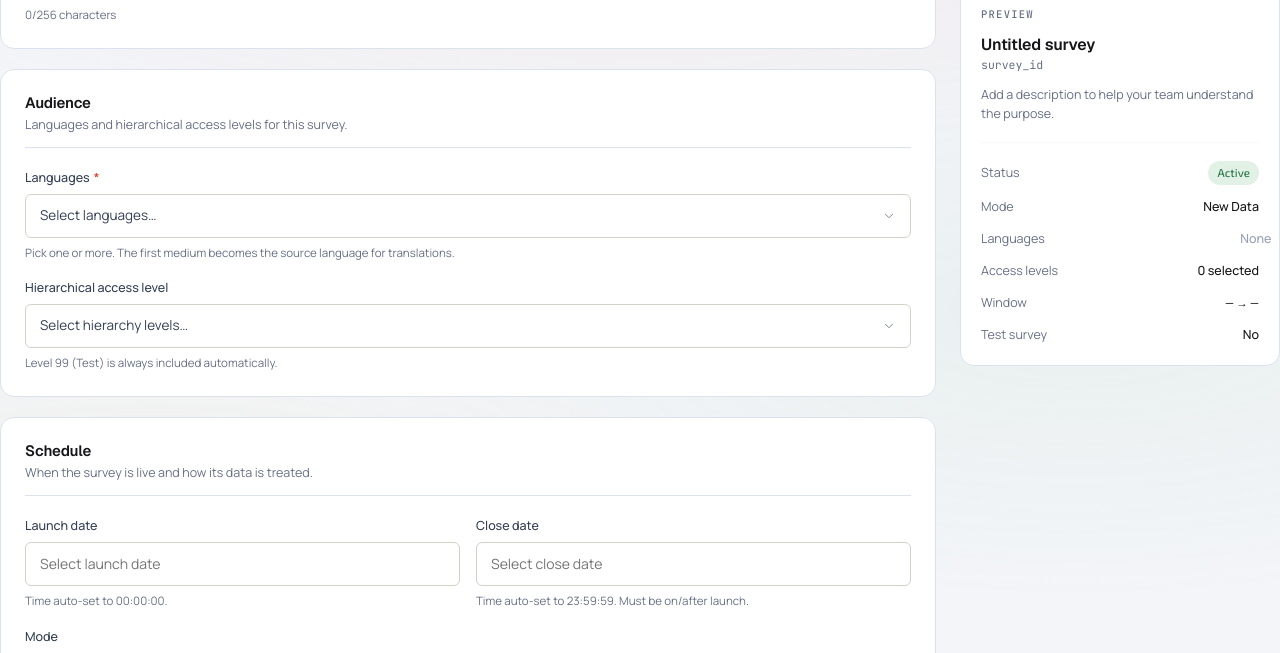
Test case: SurveyForm — designation integration (no hardcoded values) › hierarchy dropdown is populated from the real designationAPI mock
This screenshot has width=1280, height=653.
(page scrolled)
Click the button with test id "surveyform-hierarchy-trigger": (114, 325) left=25, top=304, right=911, bottom=348
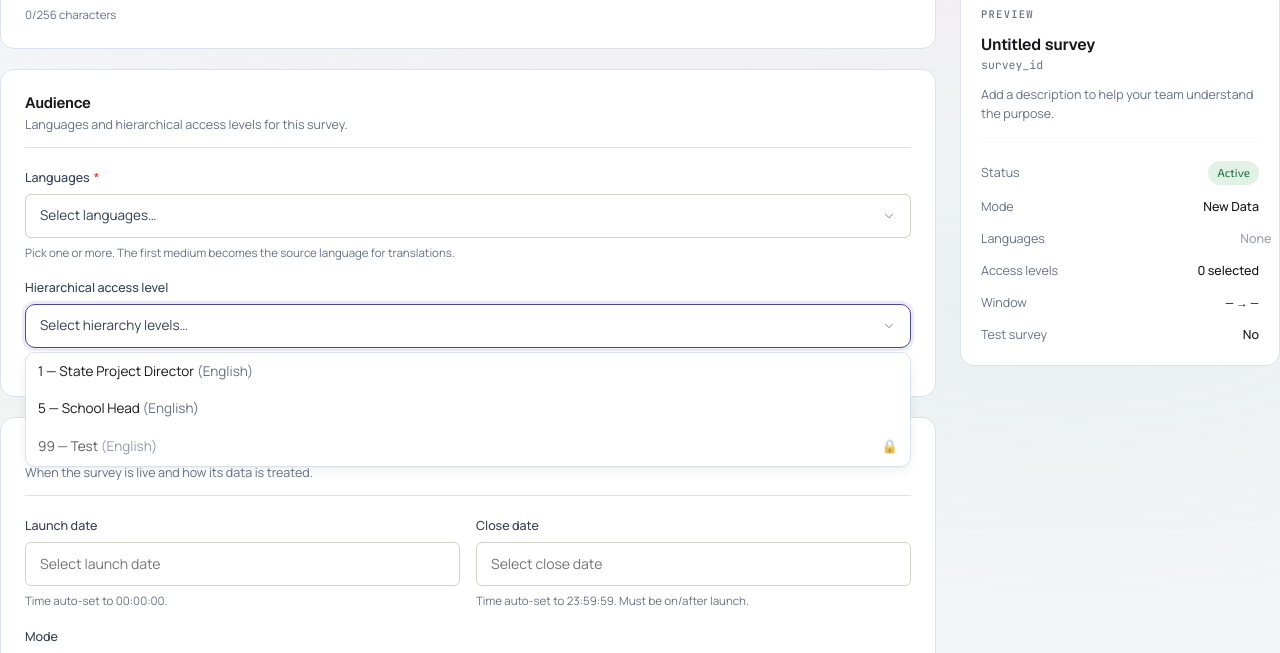
Expected: the text "1 — State Project Director (English)" is shown, left=38, top=361, right=253, bottom=382
Expected: the text "5 — School Head (English)" is shown, left=38, top=398, right=199, bottom=420
Expected: the text "99 — Test (English)" is shown, left=38, top=436, right=157, bottom=458
